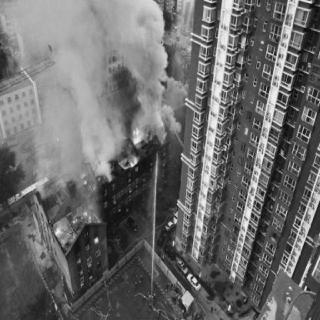Fire: (129, 108, 175, 144)
